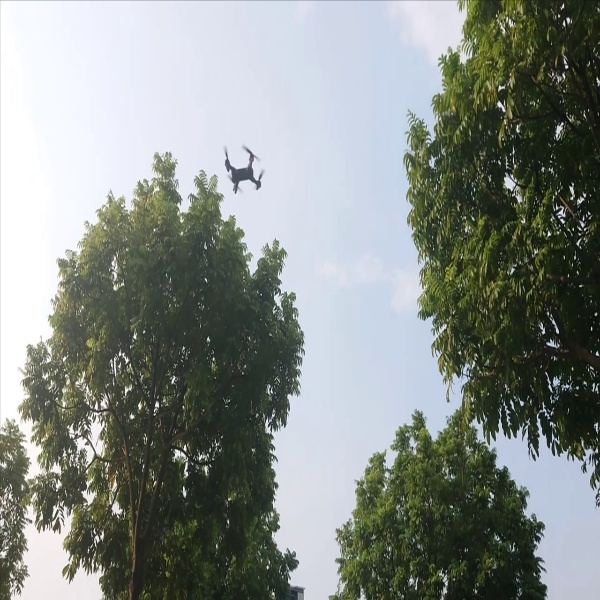drone: (212, 140, 274, 201)
